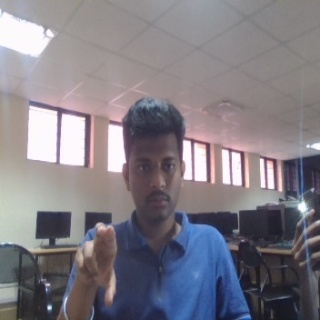No: (73, 221, 118, 307)
